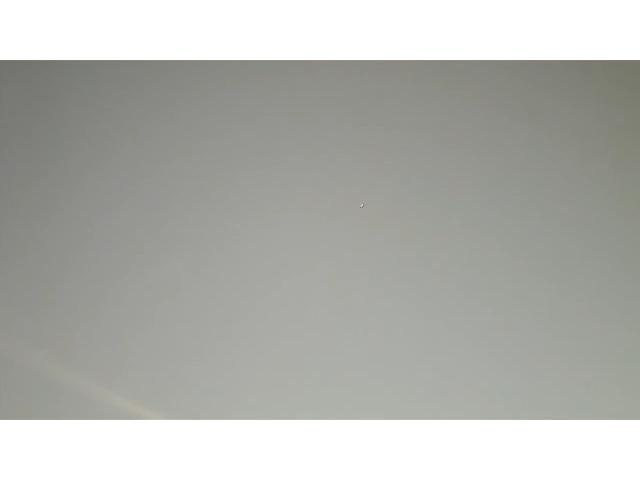Anti-Drone: (351, 199, 375, 213)
